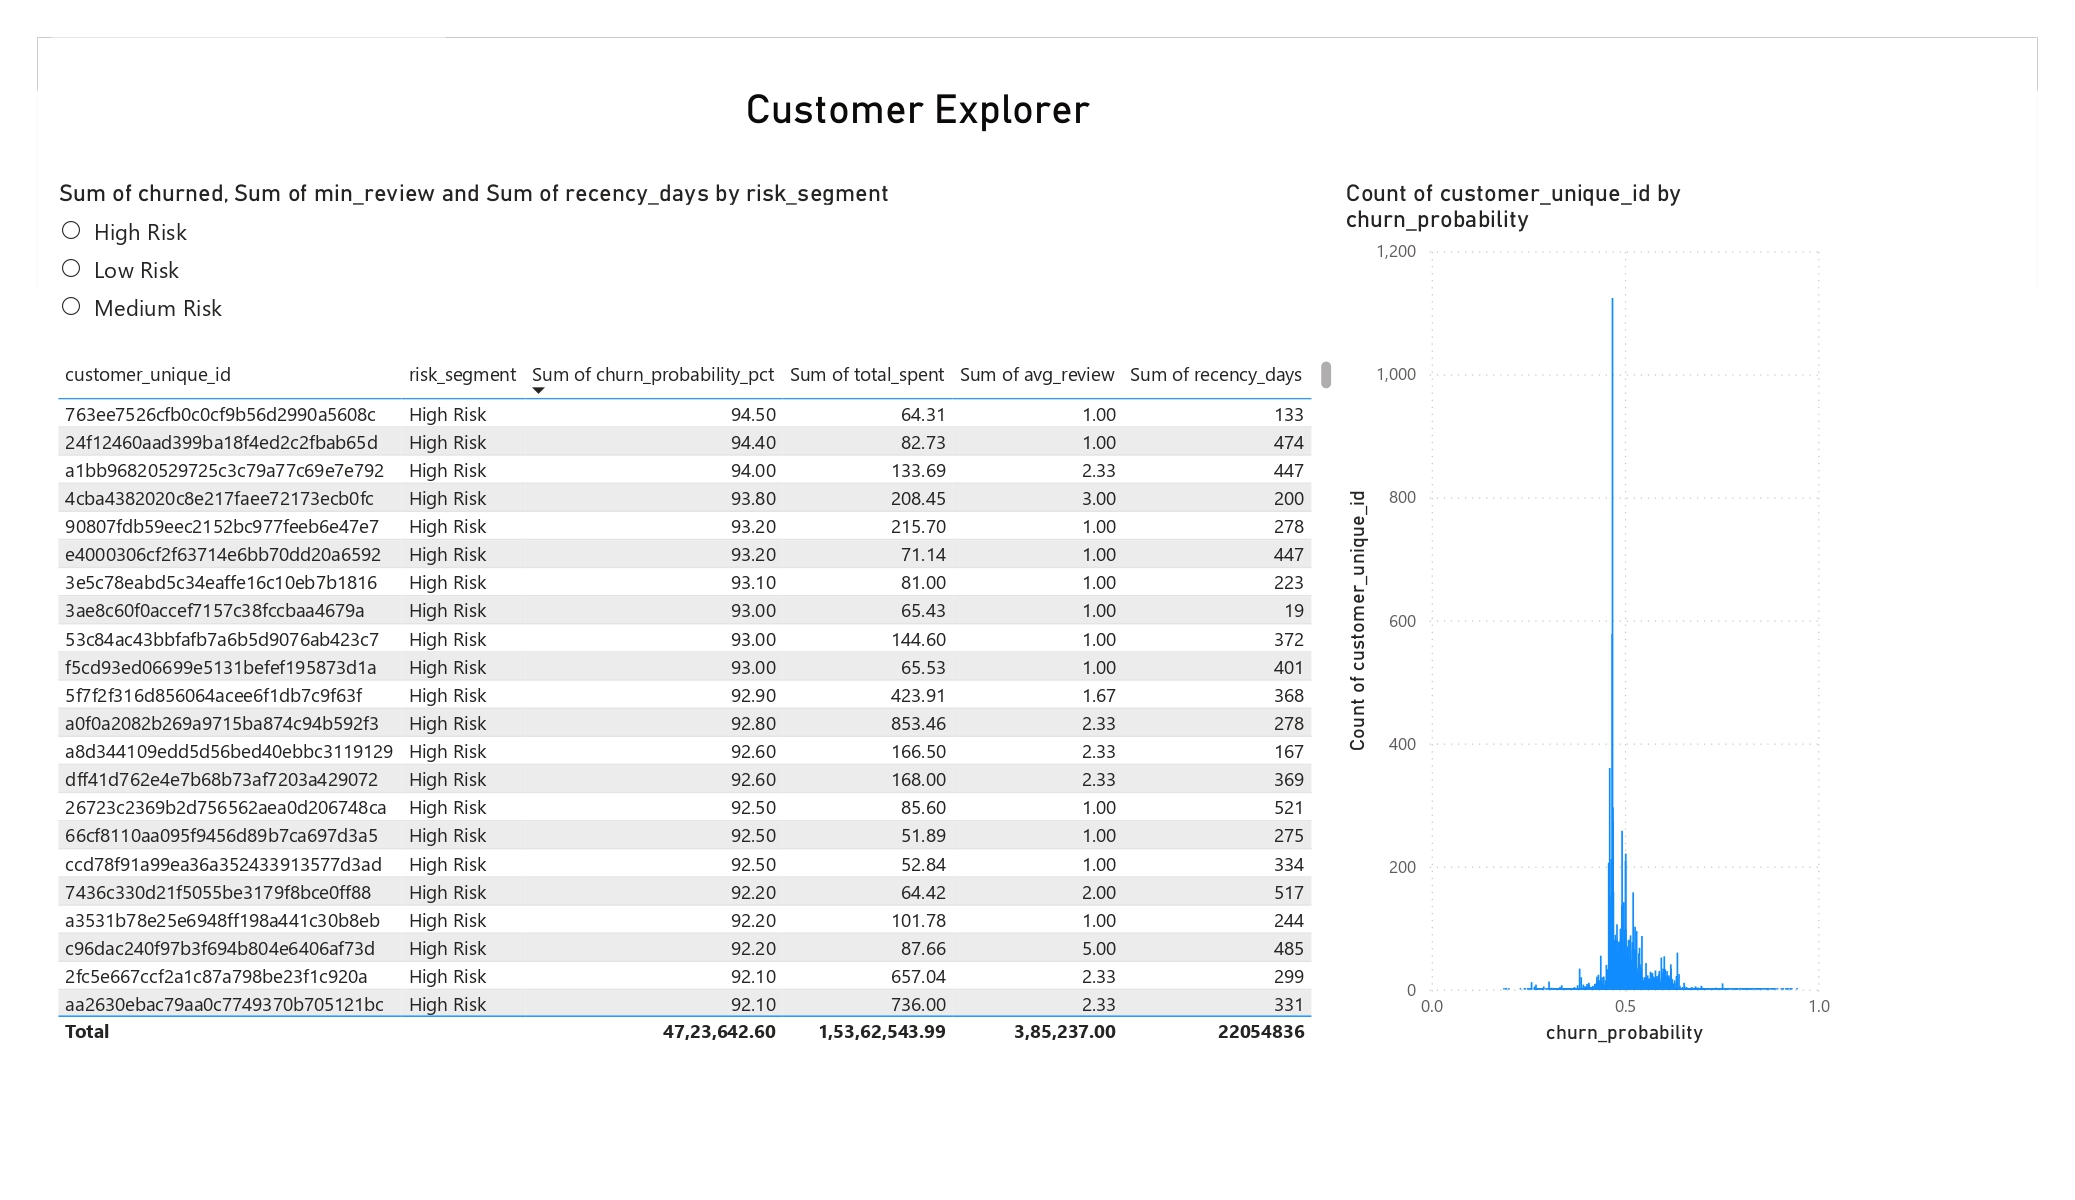

Layout of this report page (visuals, bound fields, positions):
{"tool":"powerbi","page":{"name":"Customer Explorer","canvas":[1280,720],"ordinal":2},"visuals":[{"type":"textbox","box":[10,0,280,280],"z":0},{"type":"textbox","box":[8.9,28.9,1234.4,47.8],"z":1},{"type":"listSlicer","fields":{"Values":["ecommerce_churn_processed_data.risk_segment"]},"box":[10,100,1270,248.9],"z":2},{"type":"tableEx","fields":{"Values":["ecommerce_churn_processed_data.customer_unique_id","ecommerce_churn_processed_data.risk_segment","Sum(ecommerce_churn_processed_data.churn_probability_pct)","Sum(ecommerce_churn_processed_data.total_spent)","Sum(ecommerce_churn_processed_data.avg_review)","Sum(ecommerce_churn_processed_data.recency_days)"]},"box":[8.9,224.4,916.7,495.6],"z":3},{"type":"columnChart","fields":{"Y":["CountNonNull(ecommerce_churn_processed_data.customer_unique_id)"],"Category":["ecommerce_churn_processed_data.churn_probability"]},"box":[925.6,100,354.4,620],"z":4}]}

Visuals, with their boxes on the page's 1280x720 design canvas (x1, y1, x2, y2). These are canvas units, not pixel positions in the 2075x1200 screenshot, which may show the page scaled, cropped or inside an application window:
textbox: 10 0 290 280
textbox: 9 29 1243 77
listSlicer - ecommerce_churn_processed_data.risk_segment: 10 100 1280 349
tableEx - ecommerce_churn_processed_data.customer_unique_id x ecommerce_churn_processed_data.risk_segment: 9 224 926 720
columnChart - CountNonNull(ecommerce_churn_processed_data.customer_unique_id) x ecommerce_churn_processed_data.churn_probability: 926 100 1280 720
